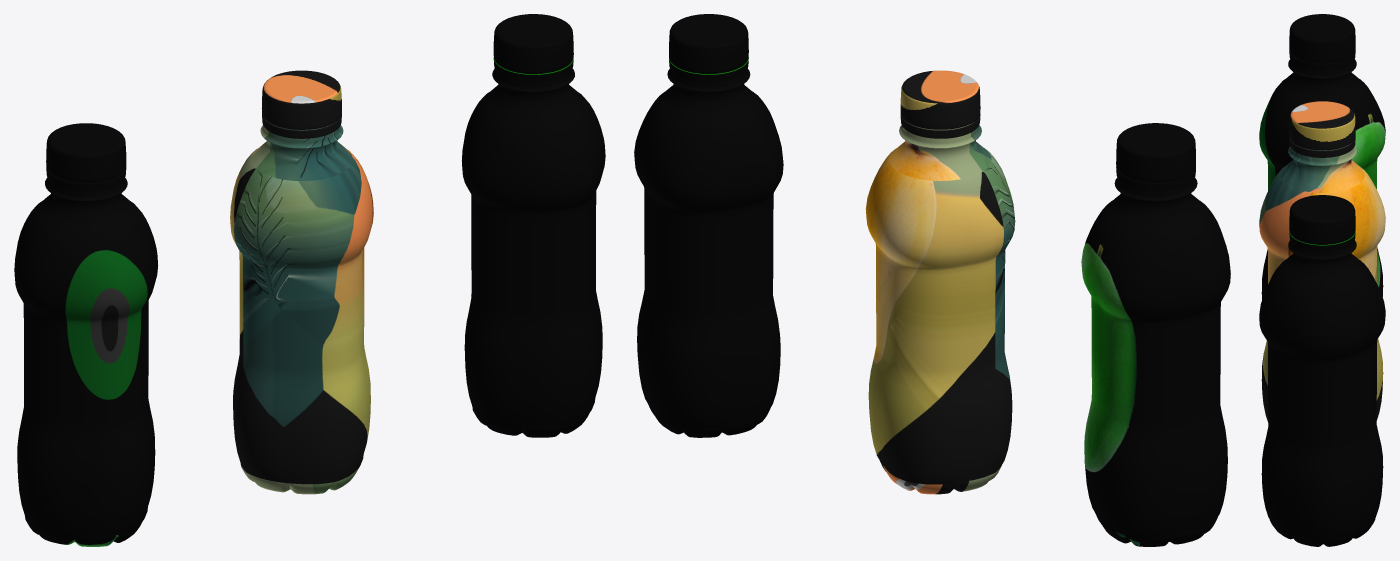
Rendered from Frutika bottle.fbx.
The picture shows the model from 3 angles, left to right: view 1: azimuth 30°, elevation 25°; view 2: azimuth 150°, elevation 25°; view 3: azimuth 270°, elevation 25°; orthographic projection. The views are drawn at different scales.
Visible parts, largest first — view 1: mango_bottle, grap_bottle, kacha_AMM_bottle; view 2: kacha_AMM_bottle, grap_bottle, mango_bottle; view 3: grap_bottle, mango_bottle, kacha_AMM_bottle.
Part boxes in pixels (box(x1,y1,x2,y2)): mango_bottle: box(230, 70, 373, 494); grap_bottle: box(462, 14, 605, 437); kacha_AMM_bottle: box(14, 123, 158, 546); kacha_AMM_bottle: box(1081, 123, 1230, 546); grap_bottle: box(634, 14, 783, 437); mango_bottle: box(865, 70, 1015, 494); grap_bottle: box(1259, 195, 1385, 546); mango_bottle: box(1259, 101, 1385, 422); kacha_AMM_bottle: box(1259, 14, 1385, 299).
Bounding box in the file's own units: 2168 × 1388 × 494.
